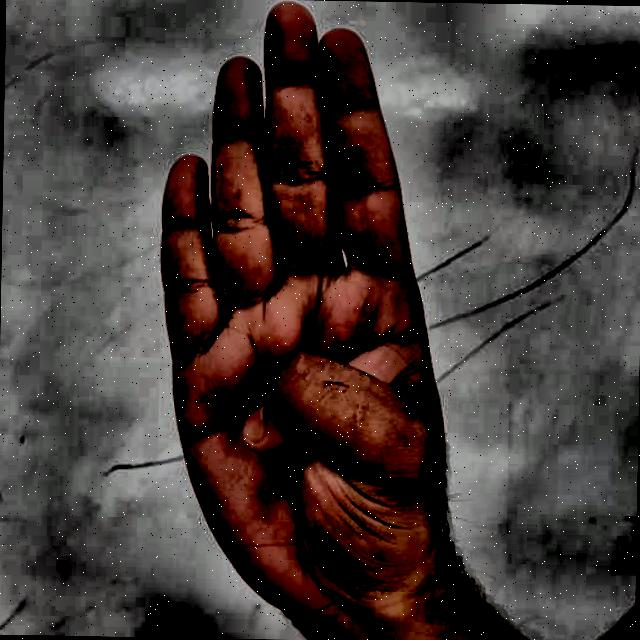Ba: (92, 0, 500, 640)
